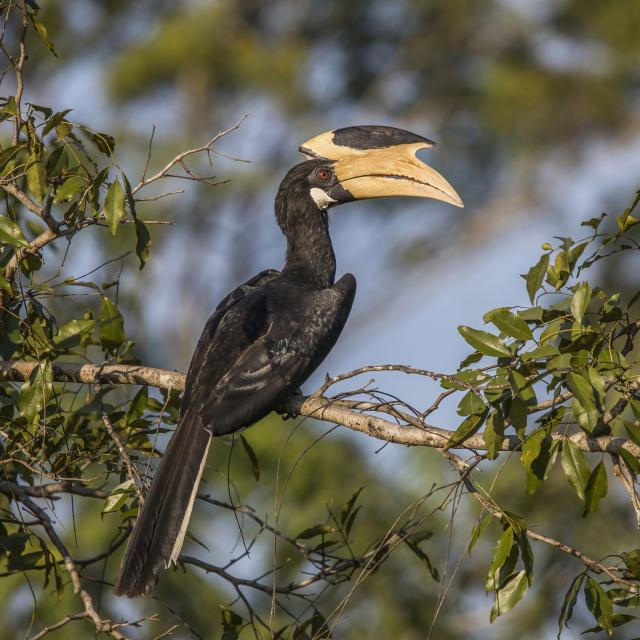Hornbill: (114, 116, 467, 606)
